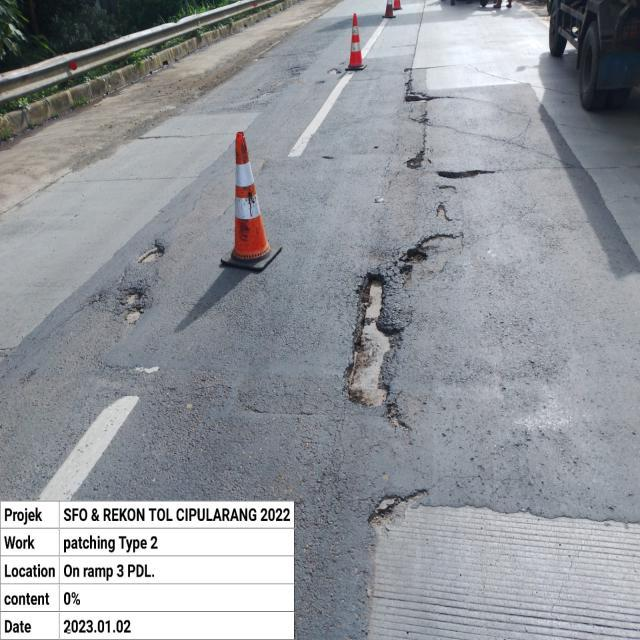Buraco: (340, 270, 408, 412), (396, 230, 466, 290), (364, 486, 432, 537), (112, 283, 154, 327), (129, 238, 168, 268), (380, 401, 414, 433), (402, 77, 442, 104), (434, 168, 498, 180), (433, 200, 455, 224), (402, 150, 428, 170), (435, 183, 461, 199), (326, 67, 344, 77), (403, 66, 415, 74)
